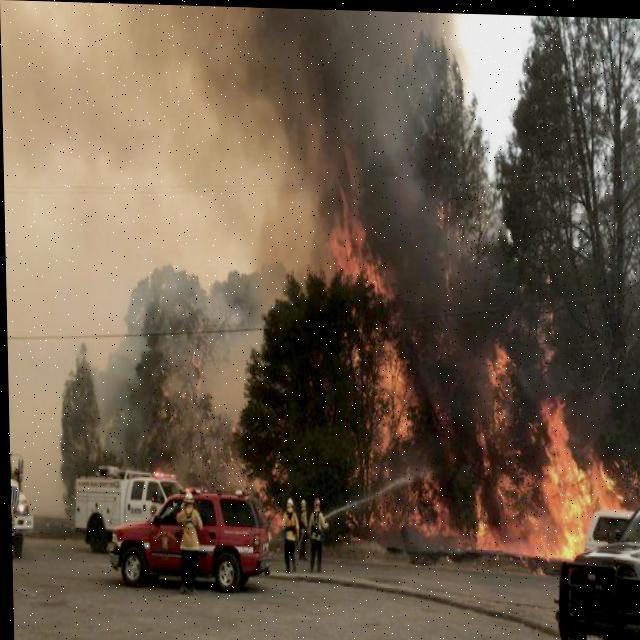Fire: (336, 206, 634, 554)
